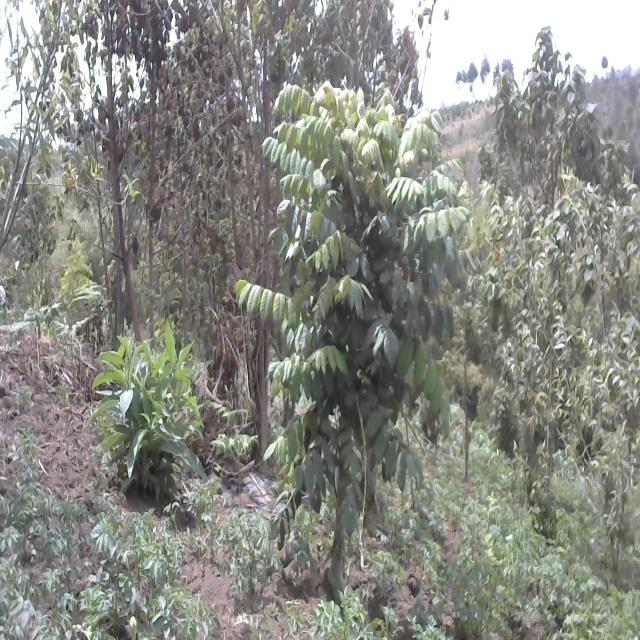Polyscias fulva: (236, 68, 473, 602)
other: (481, 154, 640, 567), (491, 7, 640, 438), (70, 0, 219, 343), (229, 0, 350, 382)
